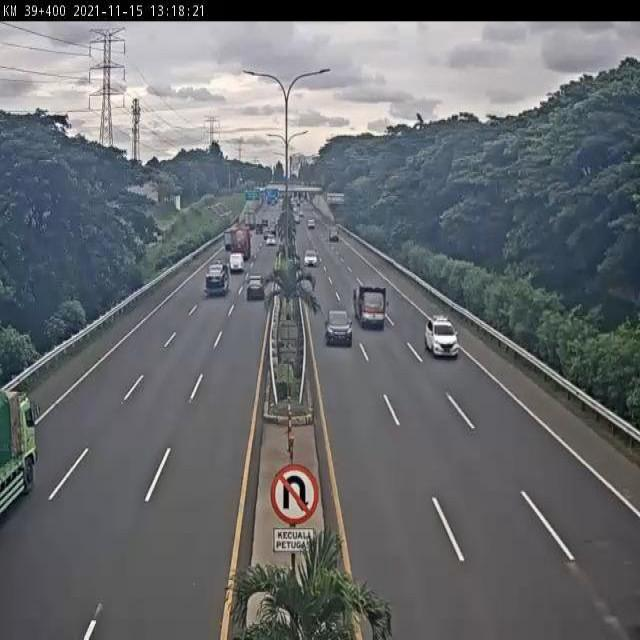car: (425, 315, 460, 360), (324, 308, 354, 349), (245, 275, 266, 301)
truck-m-: (0, 381, 38, 516), (352, 282, 388, 330), (205, 262, 232, 298)
